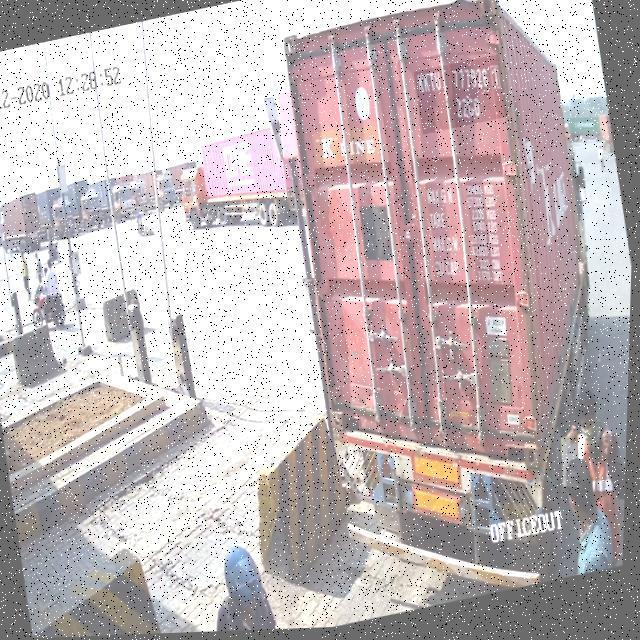container_number_h: (412, 58, 509, 140)
